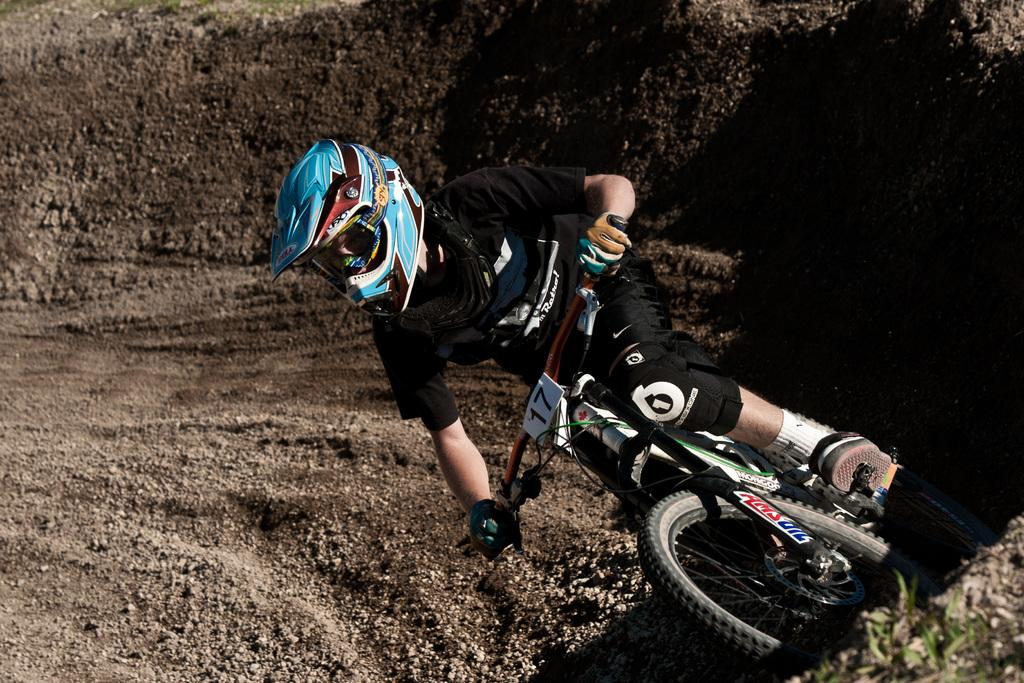helmet: (270, 139, 425, 317)
